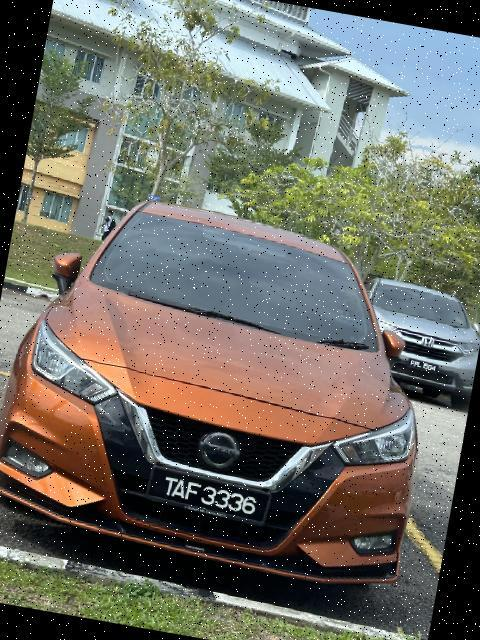License_Plate: (142, 459, 280, 536), (408, 356, 442, 380)
TAF3336: (142, 459, 280, 536)
